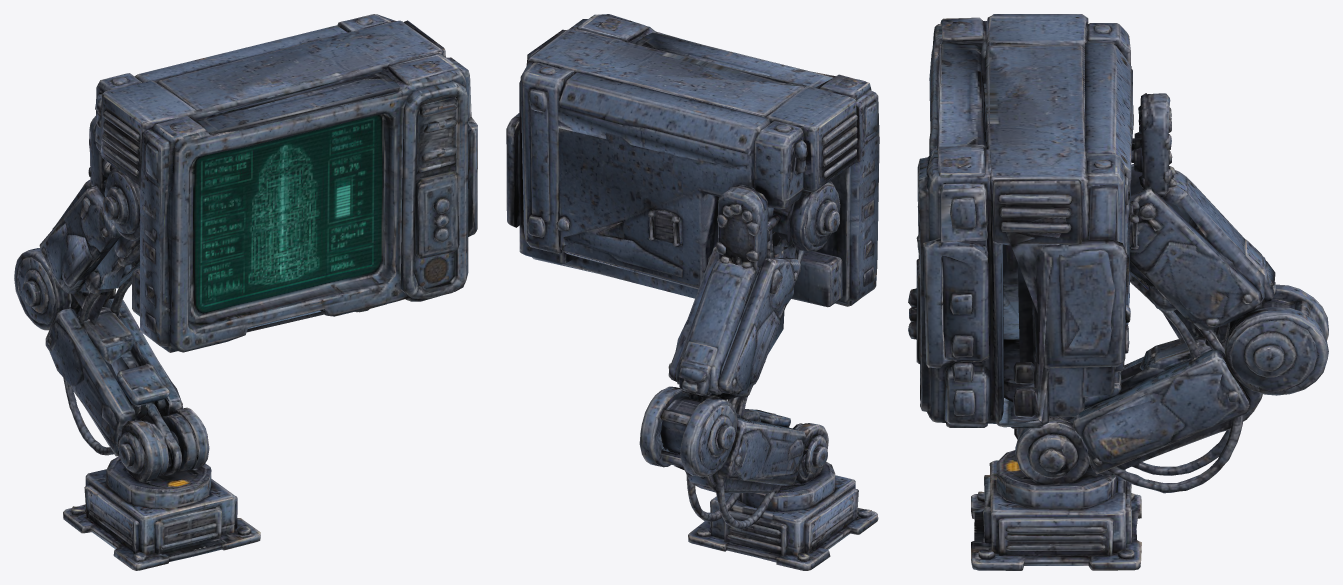
Rendered from RPGReactor-MonitorArm.glb.
3 renders of one model, left to right at view 1: azimuth 30°, elevation 25°; view 2: azimuth 150°, elevation 25°; view 3: azimuth 270°, elevation 25°, orthographic. The views are drawn at different scales.
Size of the model in its own units: 0.7793 by 1 by 0.7695.
1 material, 1 textured.
